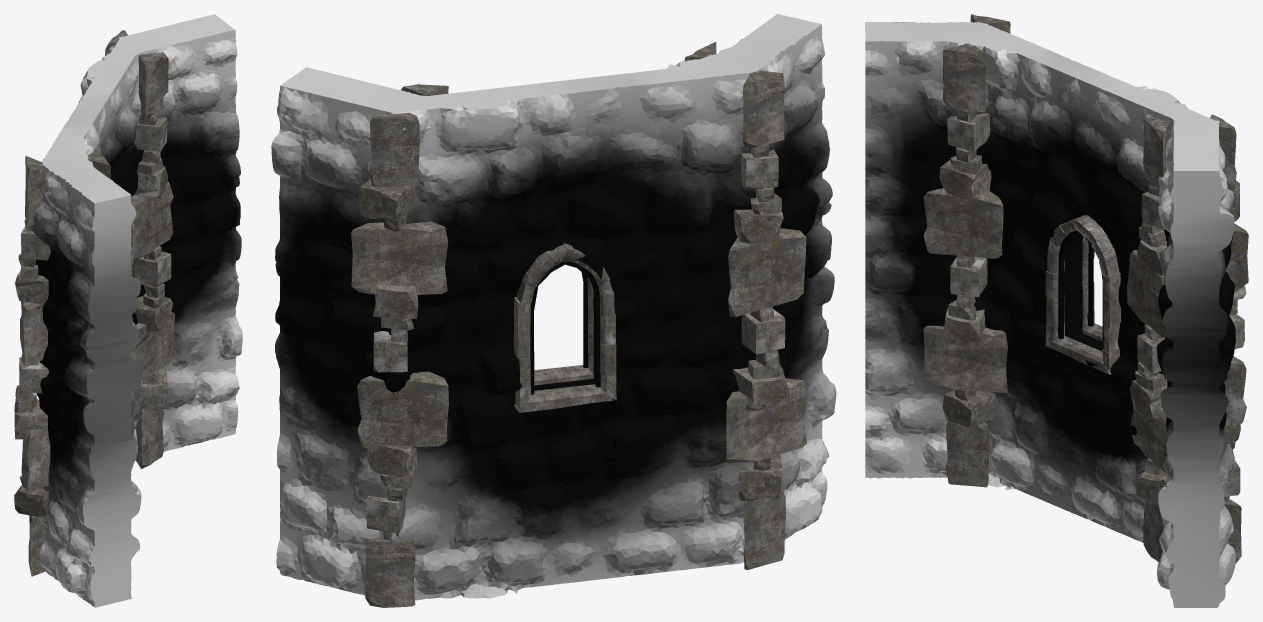
File: SM_CastleTower_Window_A_08.fbx
3 renders of one model, left to right at view 1: azimuth 30°, elevation 25°; view 2: azimuth 150°, elevation 25°; view 3: azimuth 270°, elevation 25°, orthographic. The views are drawn at different scales.
Visible parts, largest first — view 1: SM_CastleTower_Window_A_08_LOD0; view 2: SM_CastleTower_Window_A_08_LOD0; view 3: SM_CastleTower_Window_A_08_LOD0.
Boxes of the visible parts, x1,y1,x2,y2 form: SM_CastleTower_Window_A_08_LOD0: (14, 14, 242, 607); SM_CastleTower_Window_A_08_LOD0: (271, 14, 836, 607); SM_CastleTower_Window_A_08_LOD0: (865, 14, 1248, 607).
Bounding box in the file's own units: 324 × 319 × 401.
